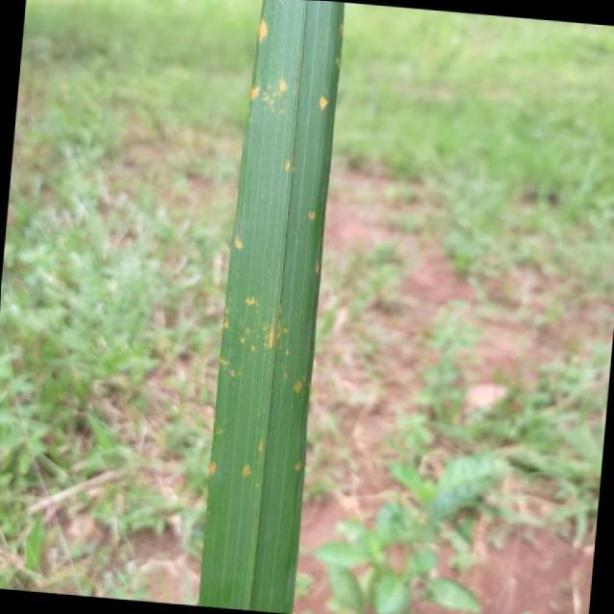Kalium: (198, 0, 342, 614)
